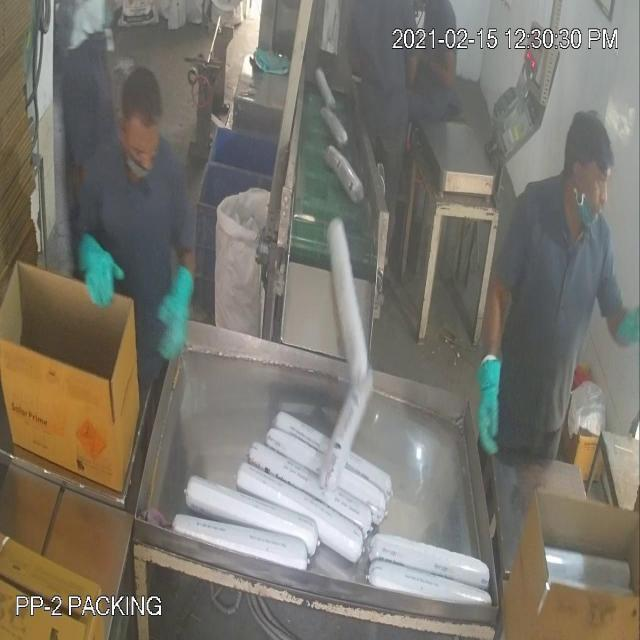Gloves: (34, 62, 491, 404)
